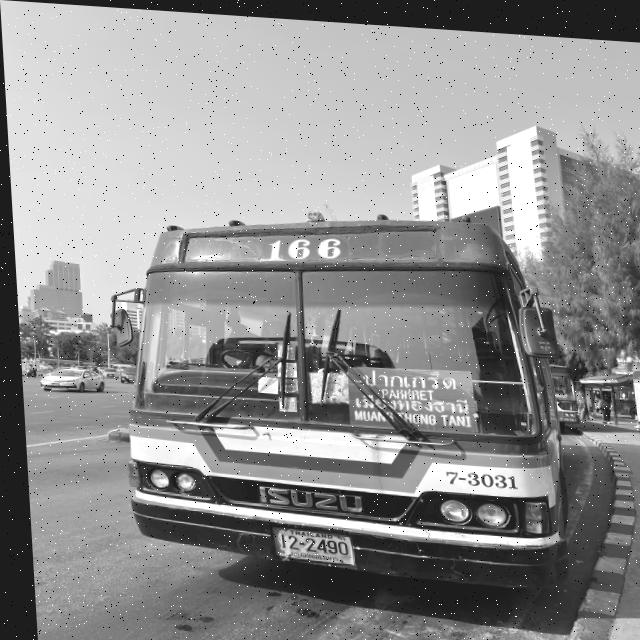BMTA-bus: (109, 195, 560, 598)
Bus-Line-Number: (256, 230, 346, 265)
Destination-Sign-Extra-Bus: (339, 360, 475, 427)
